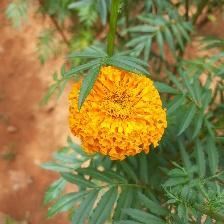marigold: (67, 63, 169, 163)
